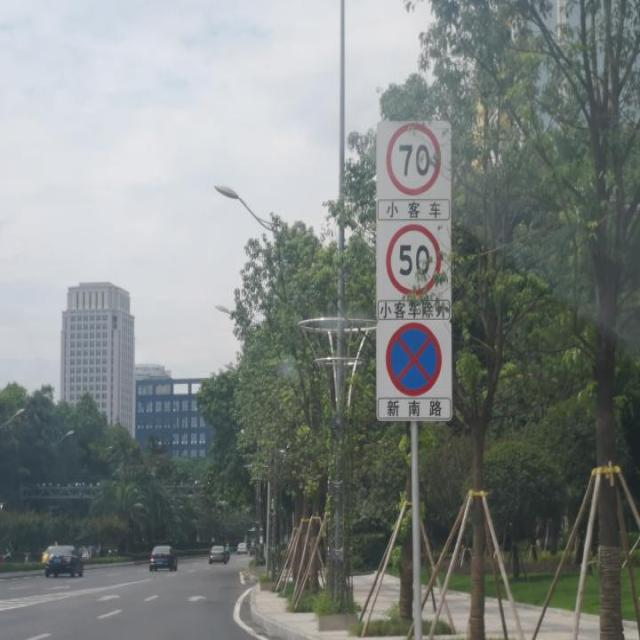speed limit 50: (386, 223, 443, 296)
speed limit 70: (387, 125, 442, 197)
